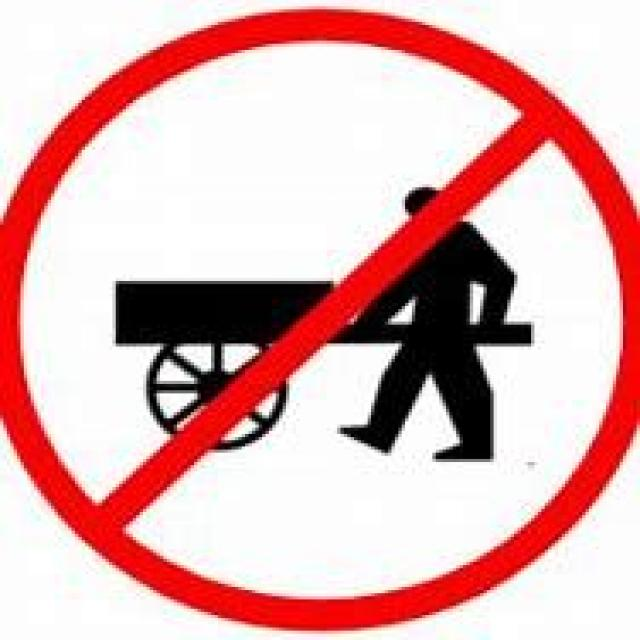railway_crossing: (0, 6, 637, 628)
